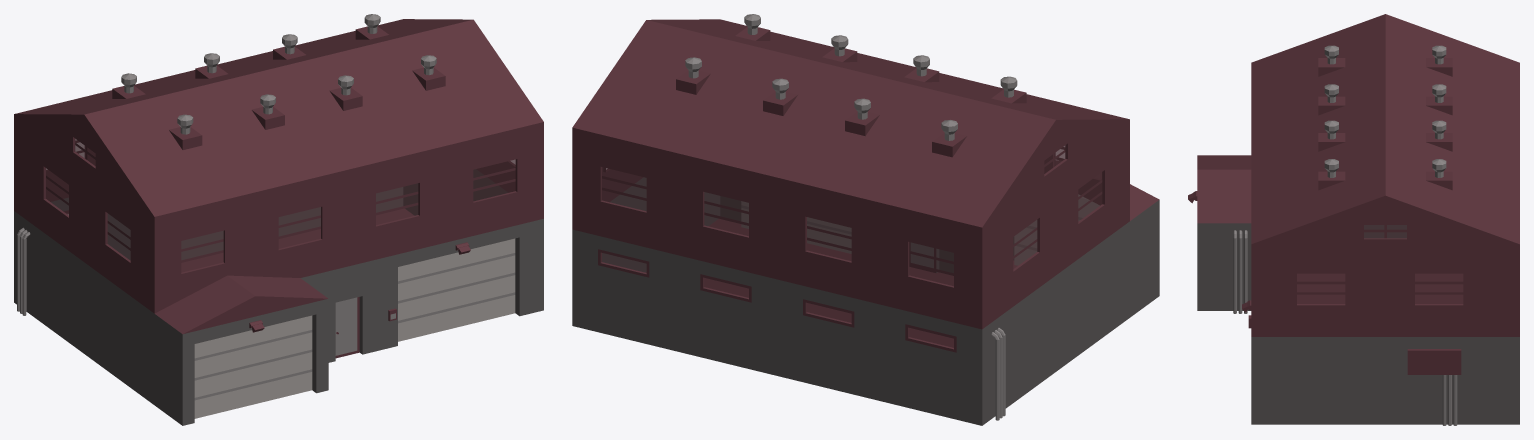
File: industry-building.fbx
3 views of the same model, side by side, from view 1: azimuth 30°, elevation 25°; view 2: azimuth 150°, elevation 25°; view 3: azimuth 270°, elevation 25° (orthographic). The views are drawn at different scales.
Visible parts, largest first — view 1: industry-building; view 2: industry-building; view 3: industry-building.
Part boxes in pixels (bbox=[...]): industry-building: bbox=[14, 14, 543, 425]; industry-building: bbox=[572, 14, 1159, 425]; industry-building: bbox=[1188, 14, 1519, 425].
Bounding box in the file's own units: 16.41 × 9.49 × 12.35.
